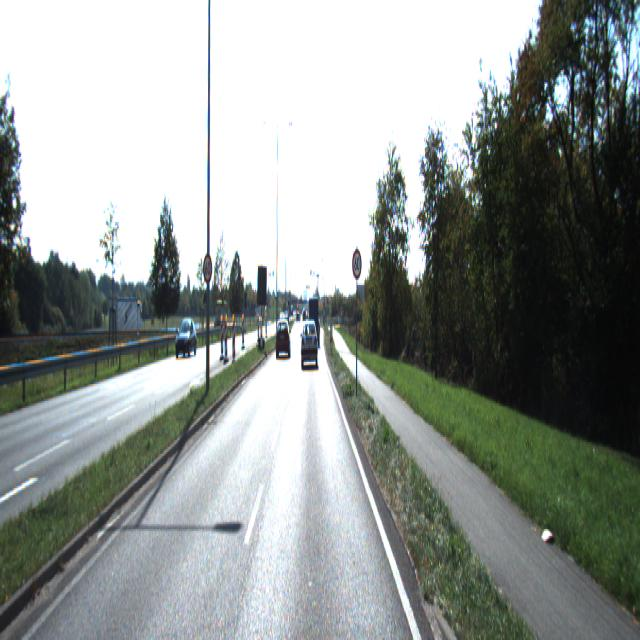Car: (175, 319, 197, 360), (301, 323, 318, 369), (275, 317, 291, 356)
Van: (308, 297, 319, 346)
